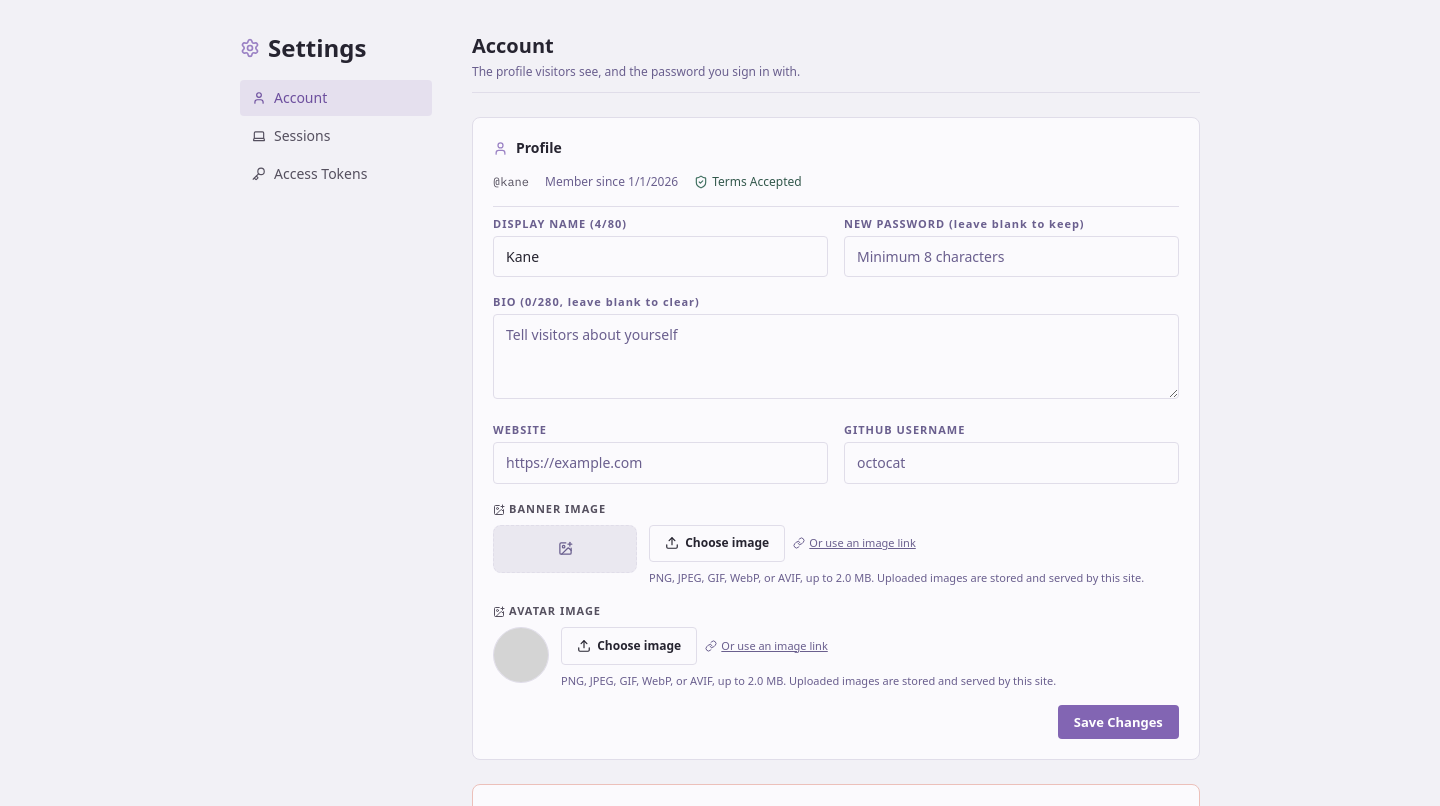
Test: SettingsPage › rejects a GitHub URL that is not a username
Step 1. Type "https://github.com/kane" into the field with placeholder "octocat" → point(1012, 463), box [844,442,1179,484]
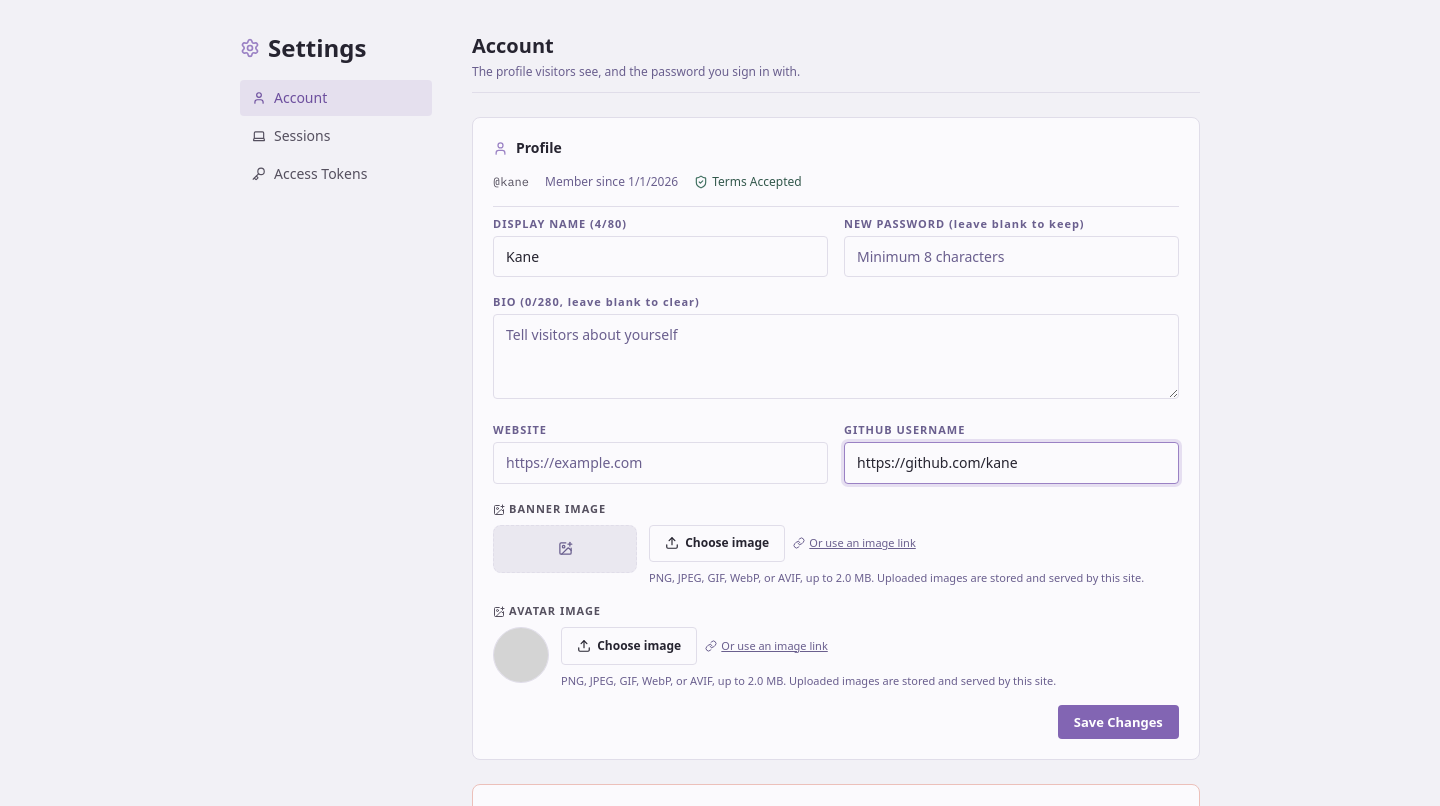
Step 2. Click the button "Save Changes" → point(1118, 722), box [1058,705,1179,739]
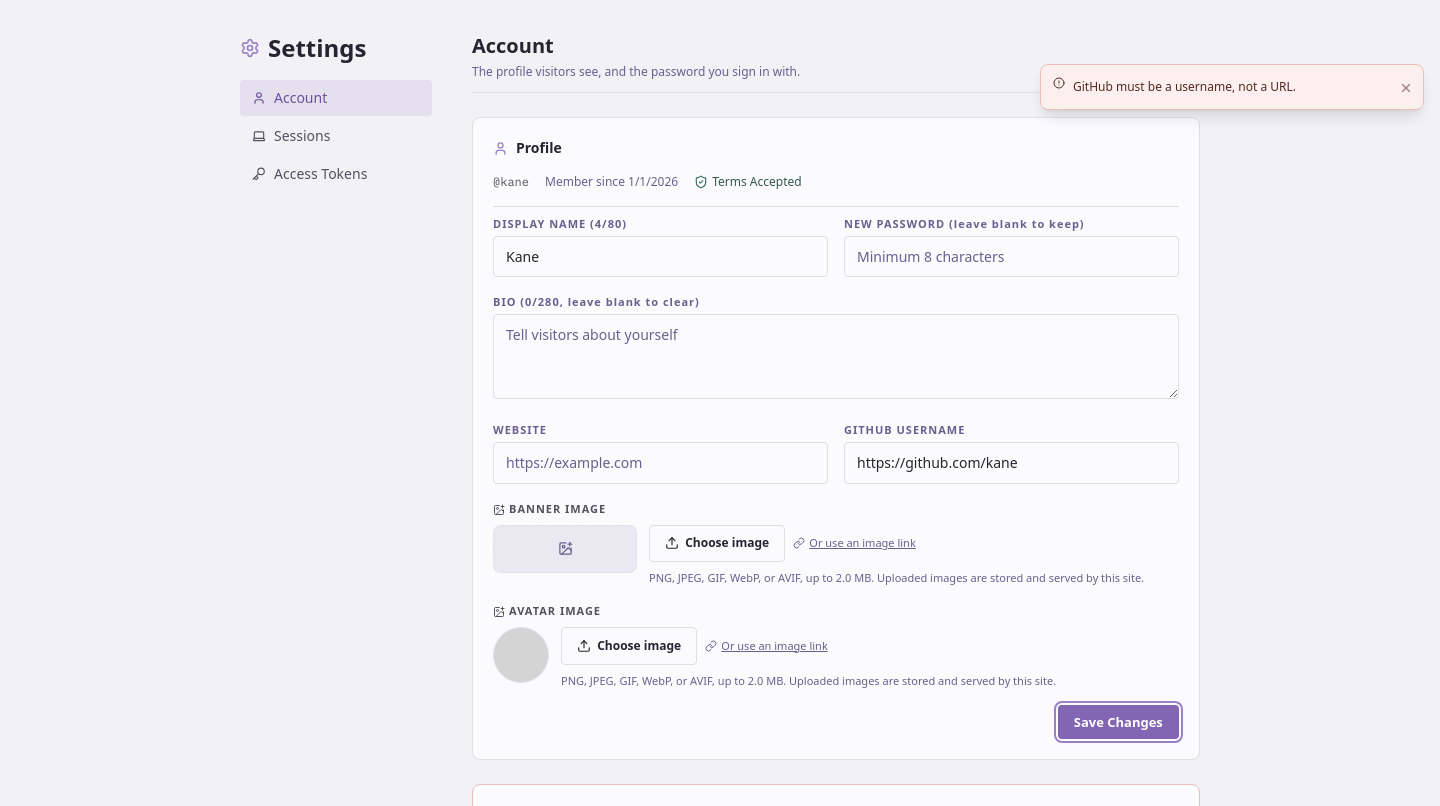
Expected: the text "GitHub must be a username, not a URL." is shown, [1073,78,1296,95]
